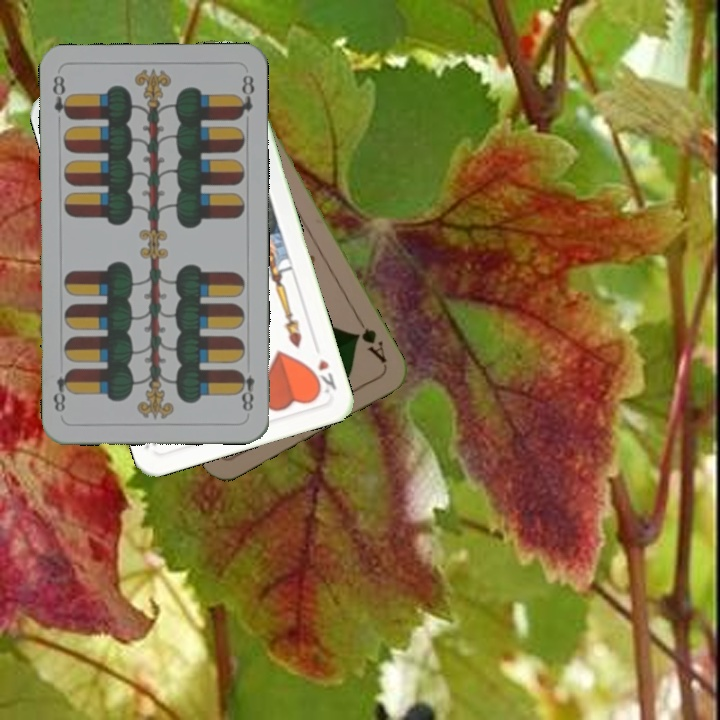E8: (48, 71, 73, 122), (234, 366, 257, 417)
GA: (351, 313, 389, 366)
HK: (307, 354, 339, 400)
